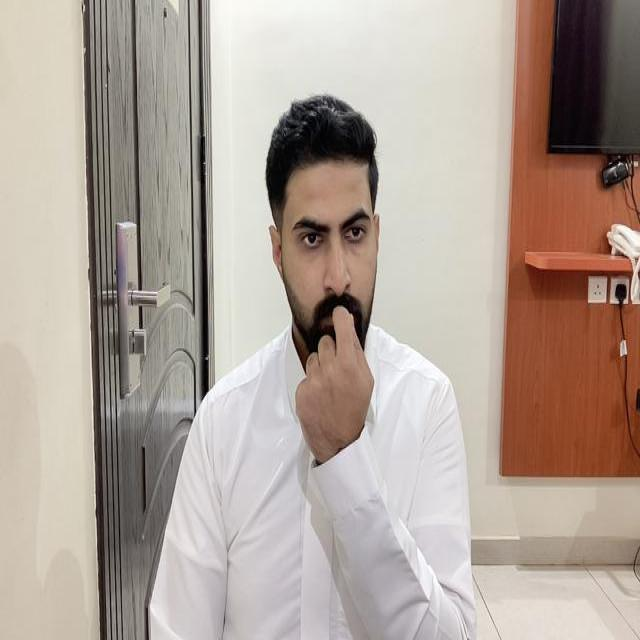medicine: (294, 304, 374, 463)
